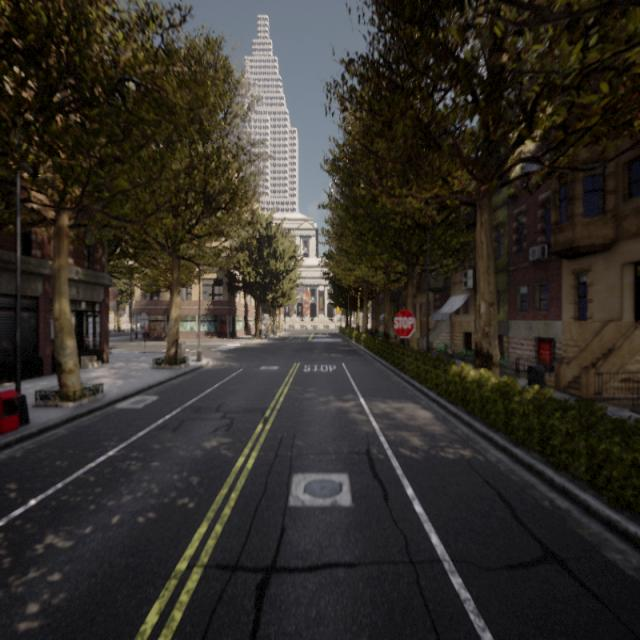stop sign: (390, 306, 417, 340)
